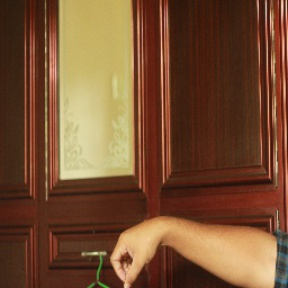O: (109, 218, 161, 280)
